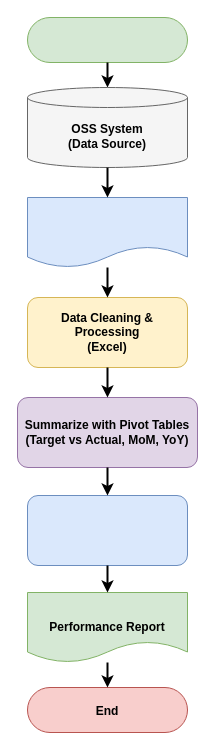
The diagram is 215 pixels wide and 750 high, and some of its shapes have lost their labels. The box of each missing label's shape, as (x1, y1, x2, y2) in pixels:
Build Charts & Visualizations (PowerPoint): (26, 494, 188, 566)
Extract Raw Data: (26, 196, 188, 268)
Start: (26, 16, 188, 62)
